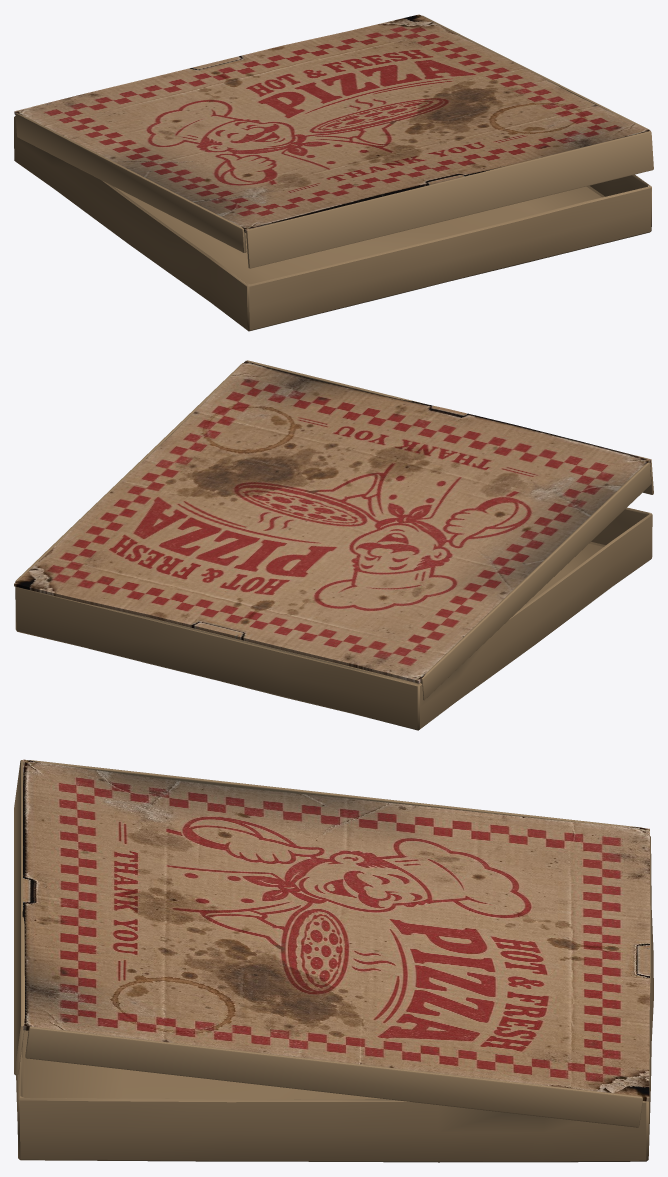
Rendered from pizza_box.glb.
3 renders of one model, top to bottom at view 1: azimuth 30°, elevation 25°; view 2: azimuth 150°, elevation 25°; view 3: azimuth 270°, elevation 25°, orthographic. The views are drawn at different scales.
Visible parts, largest first — view 1: pizza_box; view 2: pizza_box; view 3: pizza_box.
Part boxes in pixels (<box>): pizza_box: <box>14,14,653,331</box>; pizza_box: <box>14,360,653,730</box>; pizza_box: <box>14,759,653,1162</box>.
Bounding box in the file's own units: 0.415 × 0.1018 × 0.4155.
3 materials, 1 textured.
